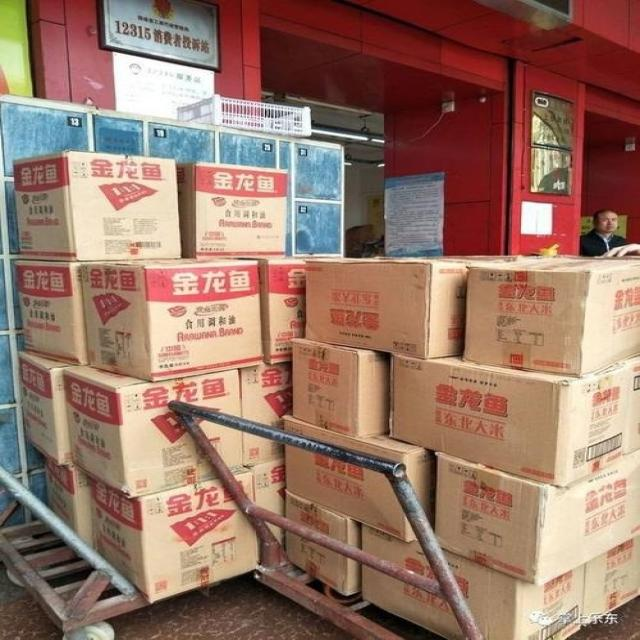box: (389, 352, 639, 488), (432, 450, 639, 589), (356, 522, 584, 639), (304, 254, 562, 357), (67, 365, 247, 497), (79, 256, 265, 382), (86, 467, 263, 599), (455, 254, 639, 380), (12, 148, 183, 260), (289, 416, 437, 540), (211, 255, 336, 366), (172, 160, 291, 257), (290, 339, 390, 440), (9, 259, 88, 365), (284, 492, 363, 595), (21, 352, 83, 466), (240, 359, 298, 466), (581, 532, 639, 628), (43, 454, 94, 548), (244, 460, 287, 553)
